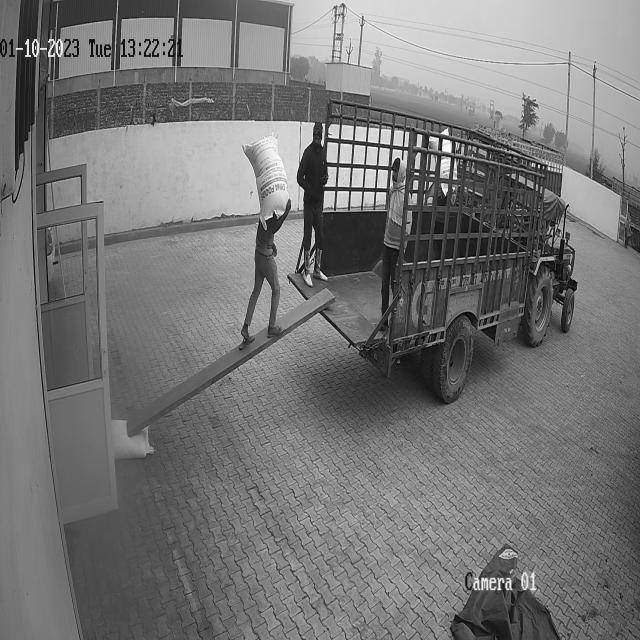sack: (241, 133, 288, 231), (112, 419, 154, 459)
